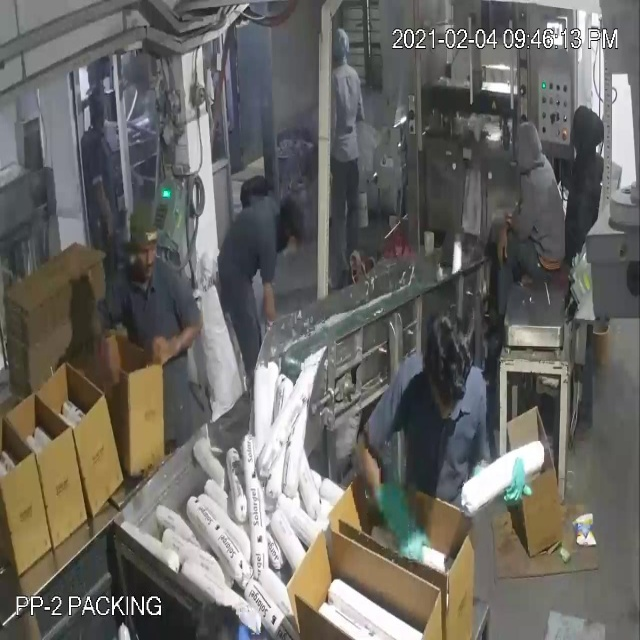Guantes: (359, 435, 432, 576), (466, 446, 541, 520)
Sin_guantes: (81, 307, 129, 397), (147, 305, 207, 375), (87, 173, 118, 241), (492, 210, 522, 271)
